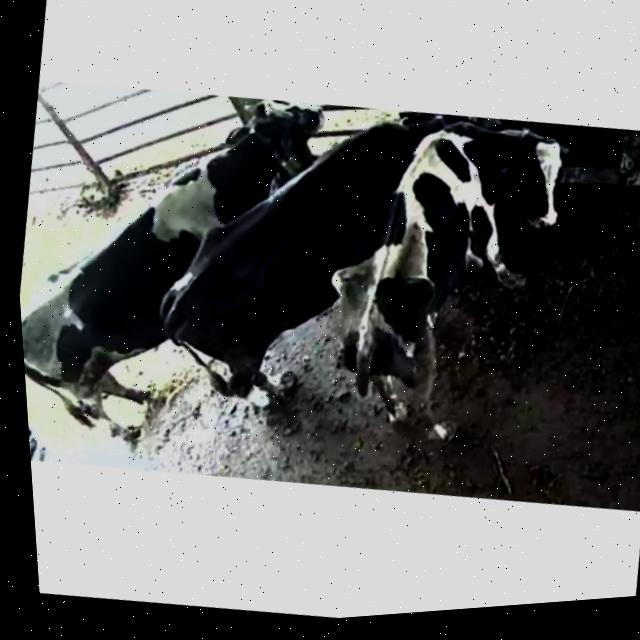drink: (332, 96, 485, 194)
